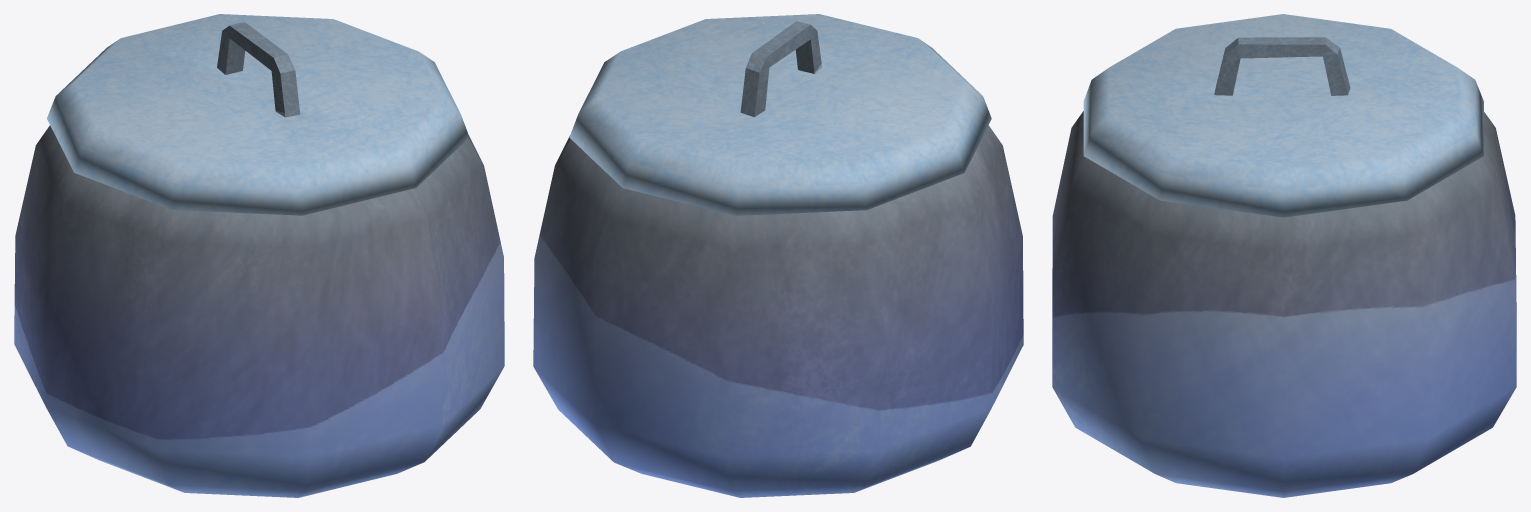
The model's file is trashcan4.fbx.
3 renders of one model, left to right at view 1: azimuth 30°, elevation 25°; view 2: azimuth 150°, elevation 25°; view 3: azimuth 270°, elevation 25°, orthographic.
Parts seen in each view (by area): view 1: can; view 2: can; view 3: can.
Part boxes in pixels (bbox=[...]): can: bbox=[14, 14, 504, 497]; can: bbox=[533, 14, 1023, 497]; can: bbox=[1052, 14, 1516, 497].
Size of the model in its own units: 4.92 by 4.31 by 4.68.
